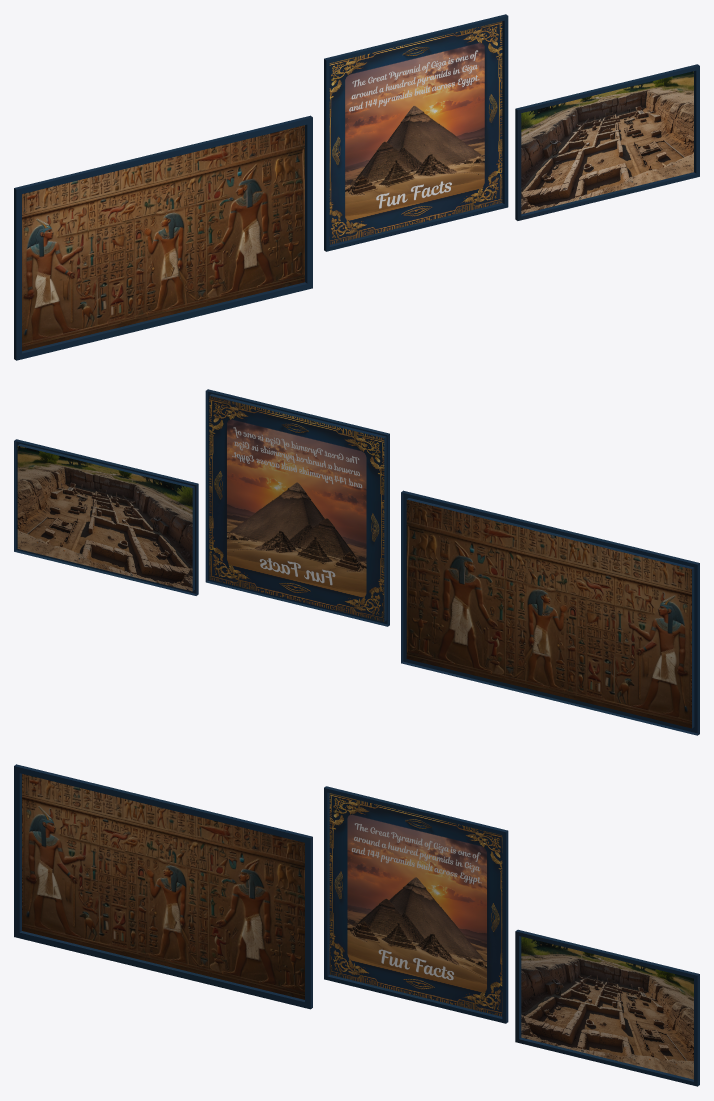
The model's file is Photo set3.fbx.
3 views of the same model, one above another, from view 1: azimuth 30°, elevation 25°; view 2: azimuth 150°, elevation 25°; view 3: azimuth 330°, elevation 25° (orthographic).
Visible parts, largest first — view 1: Plane.014, Plane.018, Plane.017; view 2: Plane.014, Plane.018, Plane.017; view 3: Plane.014, Plane.018, Plane.017.
Boxes of the visible parts, x1,y1,x2,y2 form: Plane.014: (14,115,312,360); Plane.018: (324,14,508,251); Plane.017: (515,64,699,220); Plane.014: (401,490,699,735); Plane.018: (205,389,389,626); Plane.017: (14,439,198,595); Plane.014: (14,764,312,1009); Plane.018: (324,786,508,1023); Plane.017: (515,929,699,1086).
Bounding box in the file's own units: 714 × 224 × 4.21.
